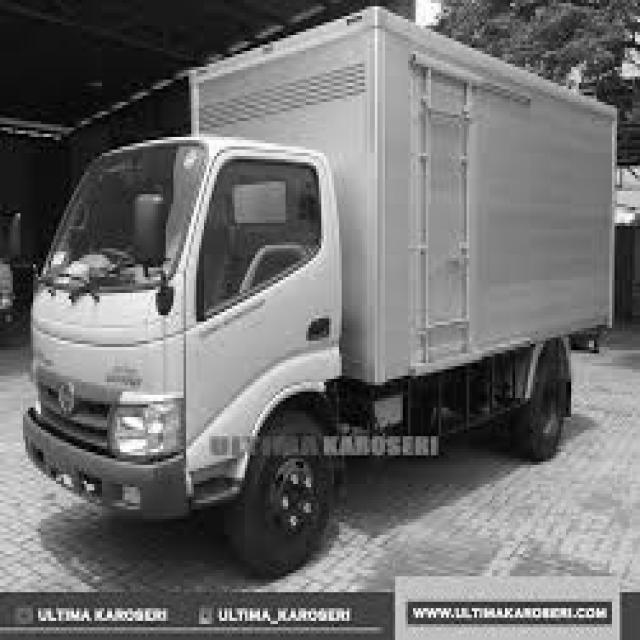truck: (1, 107, 376, 542)
